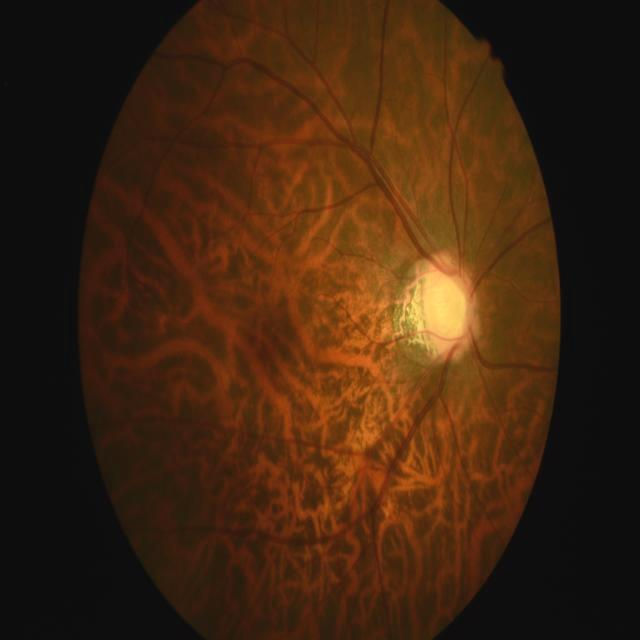cup: (428, 270, 470, 348)
disk: (421, 254, 479, 359)
